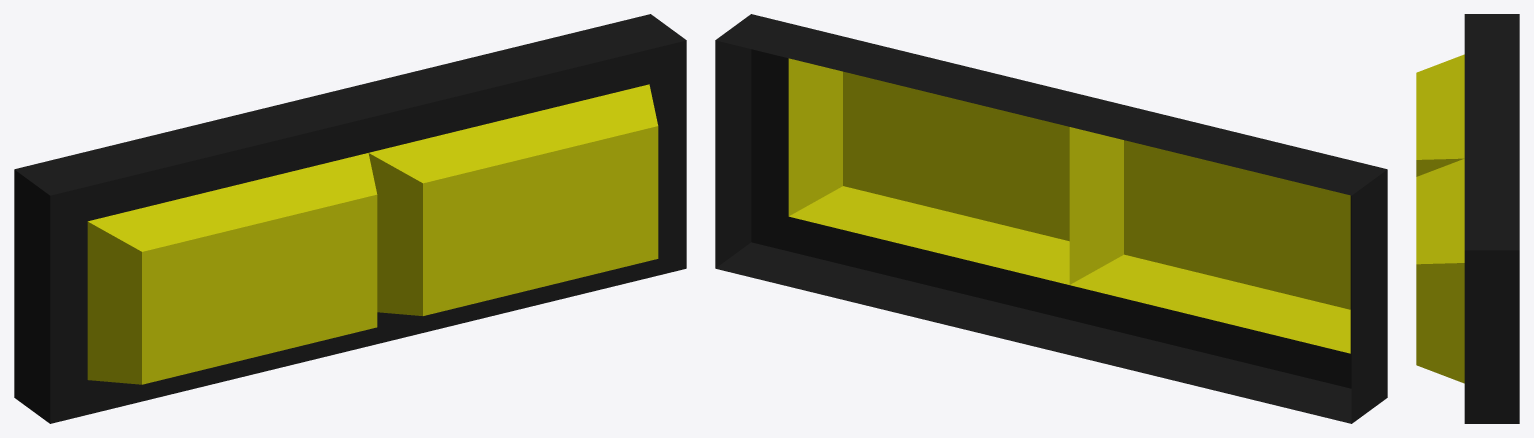
Rendered from Light_Door.dae.
The picture shows the model from 3 angles, left to right: view 1: azimuth 30°, elevation 25°; view 2: azimuth 150°, elevation 25°; view 3: azimuth 270°, elevation 25°; orthographic projection. The views are drawn at different scales.
Visible parts, largest first — view 1: Light_Door; view 2: Light_Door; view 3: Light_Door.
Part boxes in pixels (box(x1,y1,x2,y2)): Light_Door: box(14, 14, 686, 423); Light_Door: box(715, 14, 1387, 423); Light_Door: box(1416, 14, 1519, 423).
Size of the model in its own units: 2.32 by 0.7946 by 0.4274.
